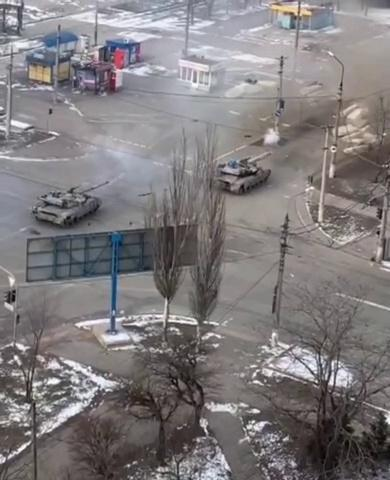tank: (31, 180, 110, 229), (206, 150, 272, 196)
